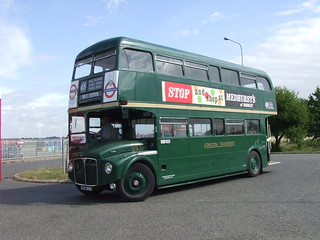bus: (66, 36, 277, 202)
